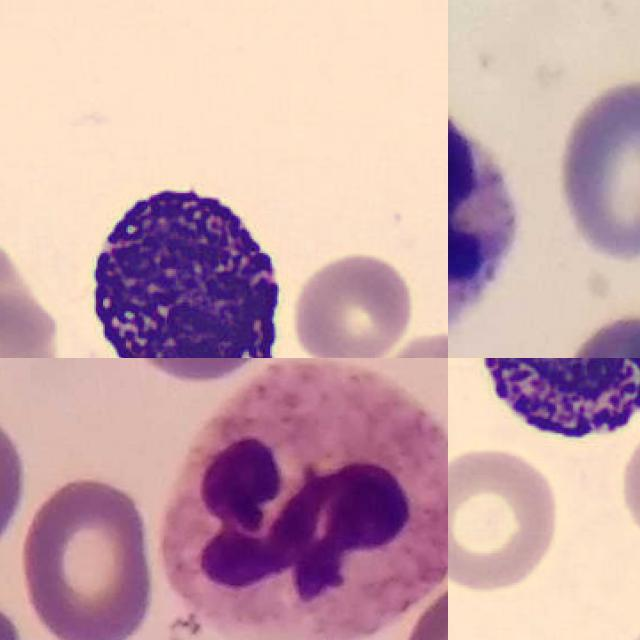Basophil: (71, 170, 295, 358), (459, 358, 640, 454)
Neutrophil: (165, 360, 448, 640), (448, 106, 521, 335)
RBC: (448, 440, 564, 593), (288, 246, 418, 358), (0, 219, 94, 358), (0, 235, 69, 358)
